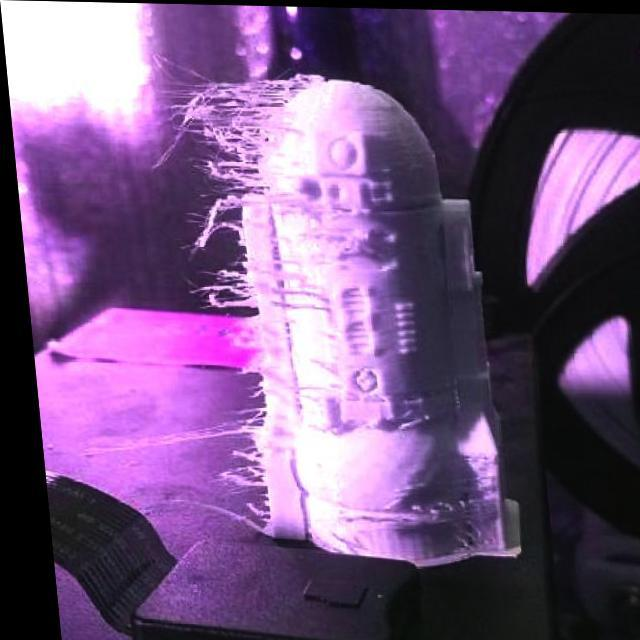spaghetti: (145, 55, 354, 538), (377, 446, 498, 554)
